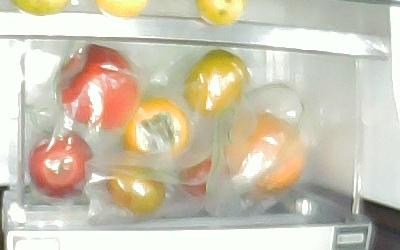apple_vinyl: (53, 43, 138, 128), (27, 130, 93, 198)
grapefruit_vinyl: (222, 109, 304, 193)
persimmon_vinyl: (183, 49, 250, 115), (123, 96, 191, 155), (103, 164, 167, 214)
prune_vinyl: (178, 154, 212, 197)
